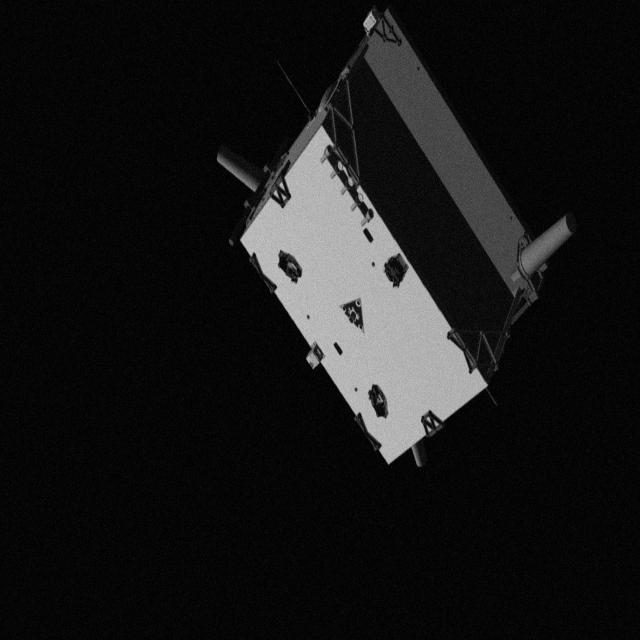satellite: (216, 4, 588, 476)
